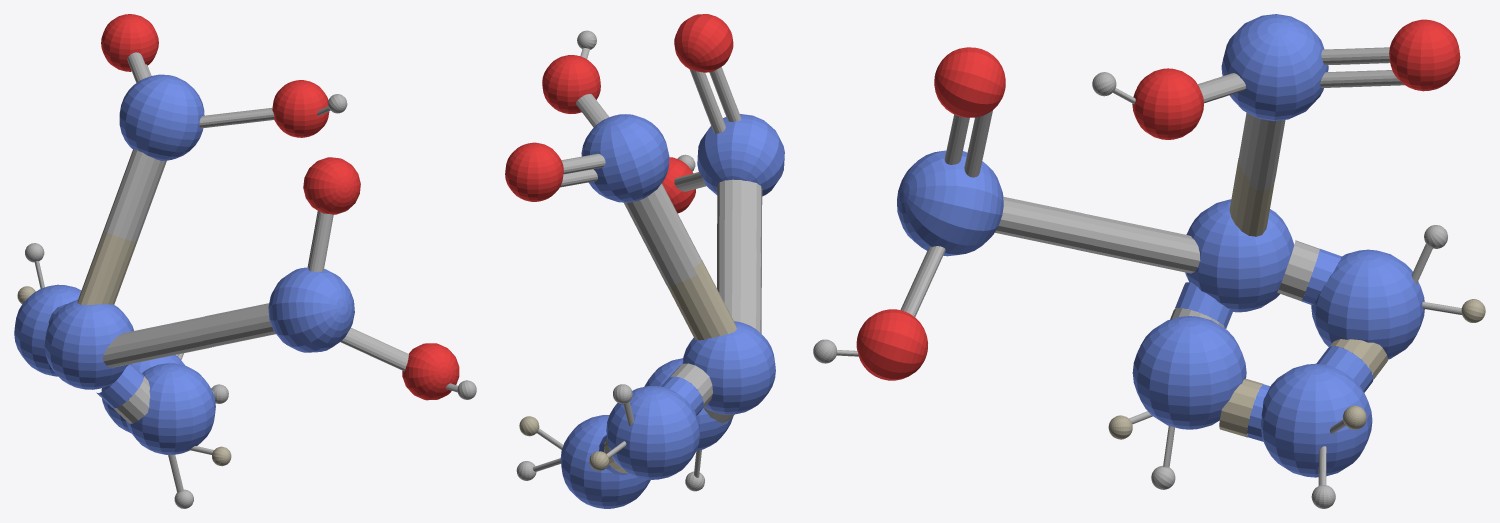
File: carboplatin.glb
3 renders of one model, left to right at view 1: azimuth 30°, elevation 25°; view 2: azimuth 150°, elevation 25°; view 3: azimuth 270°, elevation 25°, orthographic. The views are drawn at different scales.
Visible parts, largest first — view 1: ShapeCylinder.095, ShapeSphere.050, ShapeSphere.002, ShapeCylinder.042, ShapeCylinder.099, ShapeSphere.051, ShapeSphere.045, ShapeSphere.052, ShapeSphere.044, ShapeCylinder.100, ShapeSphere.001, ShapeCylinder.096 (+2 smaller); view 2: ShapeCylinder.095, ShapeCylinder.042, ShapeCylinder.099, ShapeSphere.002, ShapeSphere.050, ShapeSphere.044, ShapeSphere.051, ShapeSphere.045, ShapeSphere.052, ShapeSphere.021, ShapeSphere.038, ShapeCylinder.102 (+7 smaller); view 3: ShapeCylinder.095, ShapeSphere.002, ShapeSphere.050, ShapeCylinder.099, ShapeCylinder.042, ShapeSphere.052, ShapeSphere.051, ShapeSphere.044, ShapeSphere.045, ShapeSphere.038, ShapeSphere.001, ShapeSphere.021 (+6 smaller).
Part boxes in pixels (x1,y1,x2,y2): ShapeCylinder.095: (14,284,215,454); ShapeSphere.050: (268,267,354,352); ShapeSphere.002: (119,74,204,160); ShapeCylinder.042: (77,149,166,305); ShapeCylinder.099: (103,303,275,367); ShapeSphere.051: (303,157,360,214); ShapeSphere.045: (272,80,329,137); ShapeSphere.052: (402,343,459,400); ShapeSphere.044: (101,14,158,71); ShapeCylinder.100: (340,327,408,371); ShapeSphere.001: (168,446,231,508); ShapeCylinder.096: (199,107,274,128); ShapeCylinder.095: (560,321,775,508); ShapeCylinder.042: (624,183,736,340); ShapeCylinder.099: (717,179,762,333); ShapeSphere.002: (581,114,669,202); ShapeSphere.050: (697,114,784,196); ShapeSphere.044: (505,142,563,201); ShapeSphere.051: (674,14,733,72); ShapeSphere.045: (542,55,600,113); ShapeSphere.052: (662,157,695,213); ShapeSphere.021: (516,416,563,480); ShapeSphere.038: (589,384,633,470); ShapeCylinder.102: (689,69,725,133); ShapeCylinder.095: (1132,199,1424,477); ShapeSphere.002: (1221,14,1328,121); ShapeSphere.050: (897,150,1003,256); ShapeCylinder.099: (995,196,1200,273); ShapeCylinder.042: (1229,112,1285,236); ShapeSphere.052: (856,309,927,380); ShapeSphere.051: (934,47,1005,117); ShapeSphere.044: (1389,19,1460,91); ShapeSphere.045: (1132,68,1203,139); ShapeSphere.038: (1411,225,1485,322); ShapeSphere.001: (1108,411,1175,489); ShapeSphere.021: (1311,405,1366,508).
Size of the model in its own units: 13.15 by 18.99 by 23.29.
